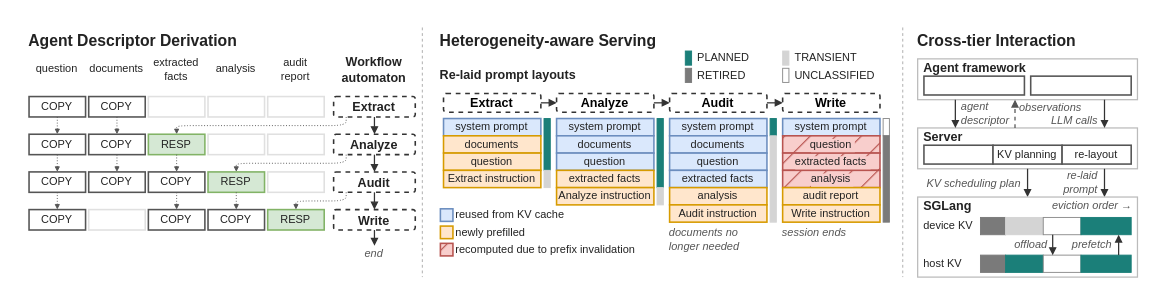
The diagram is 1165 pixels wide and 305 high, and some of its shapes have lost their labels. Here are the shapes that lost their labels. From the top down, the centre of each, then its label:
the point at 973,85: static analysis
the point at 1080,85: agent runtime
the point at 957,154: prediction
